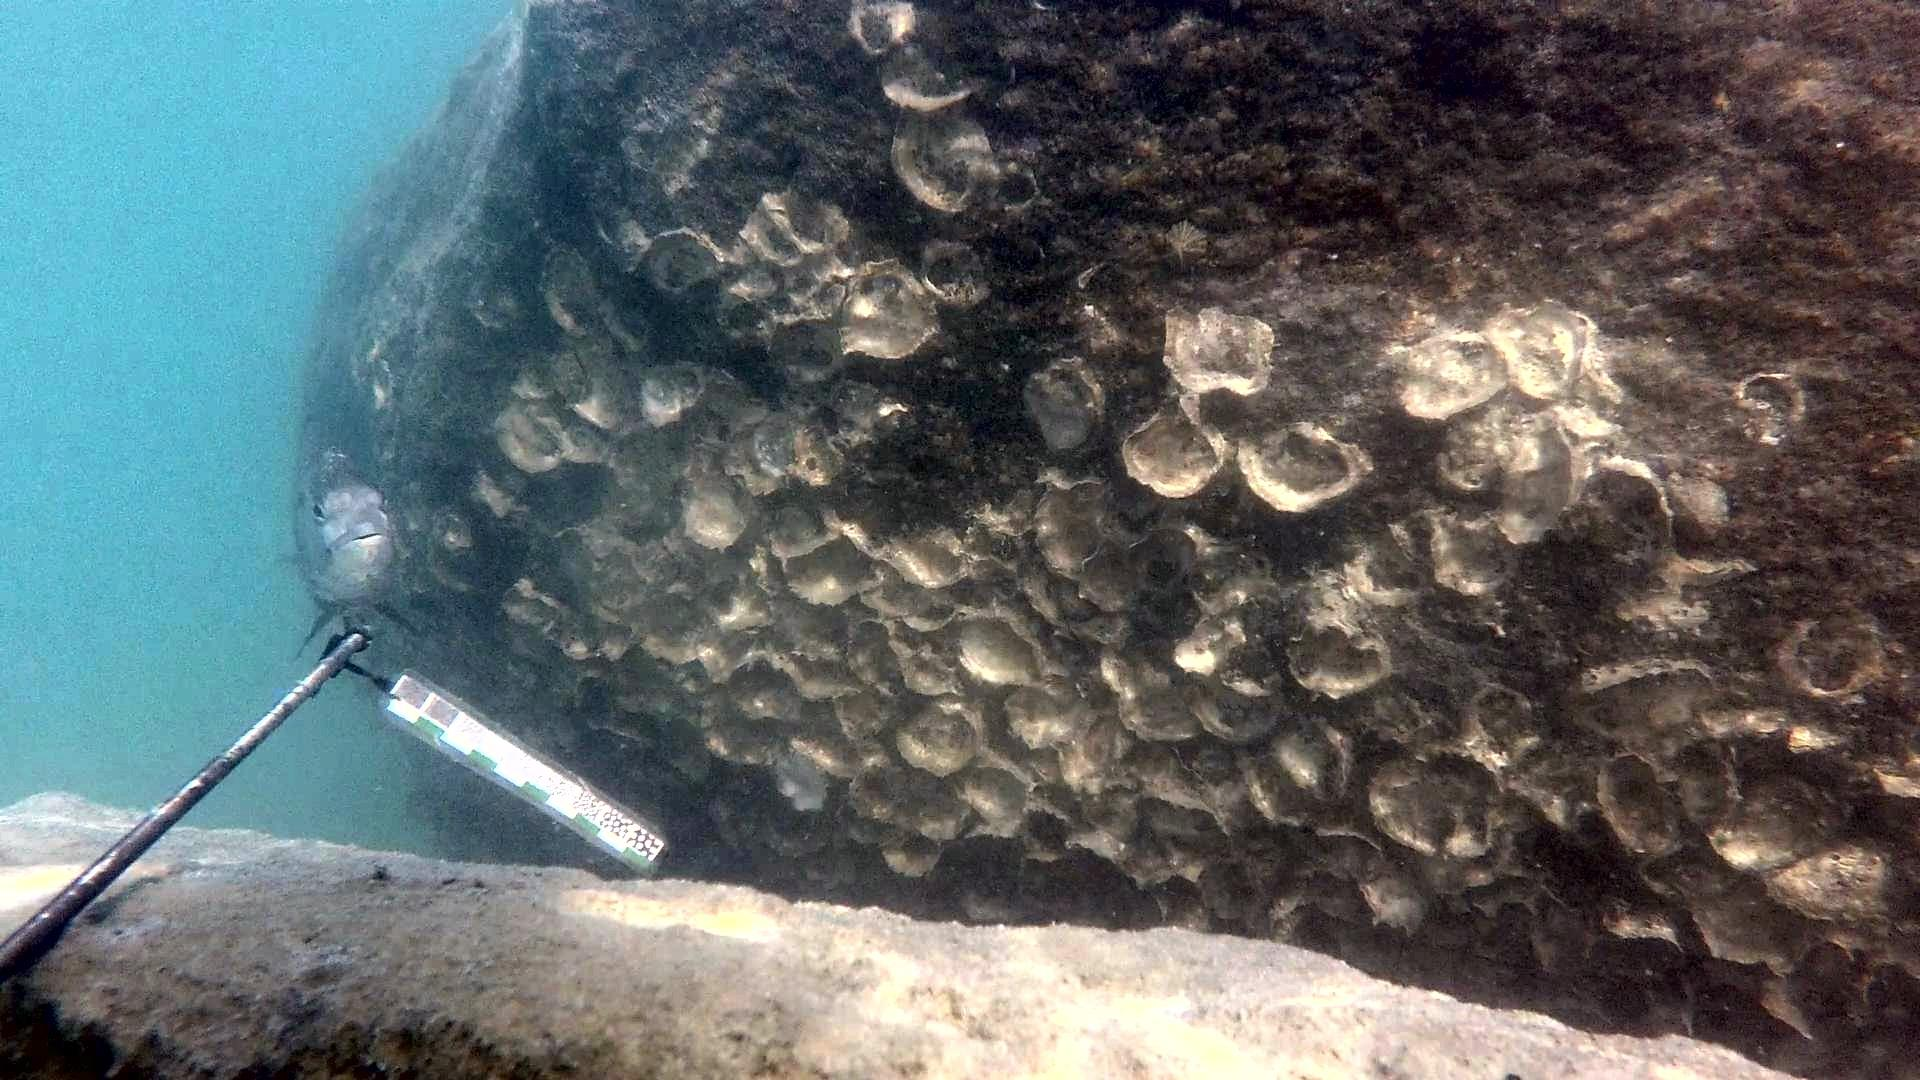acanthopagrus palmaris: (270, 426, 442, 654)
